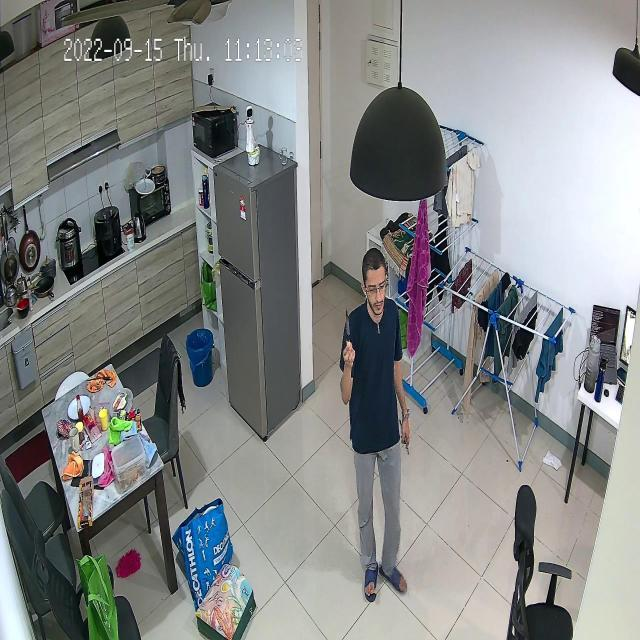Knife: (337, 301, 364, 357)
